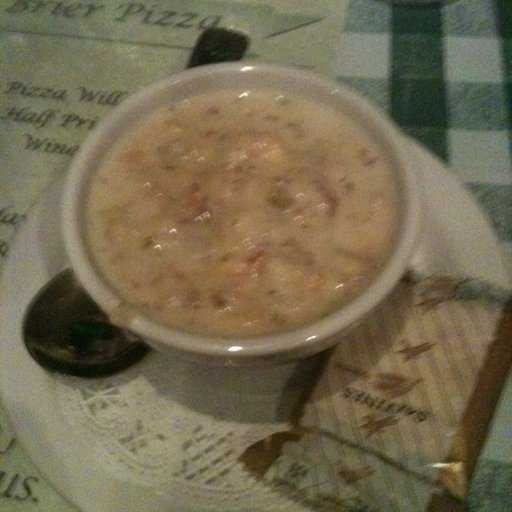soup: (72, 66, 405, 351)
